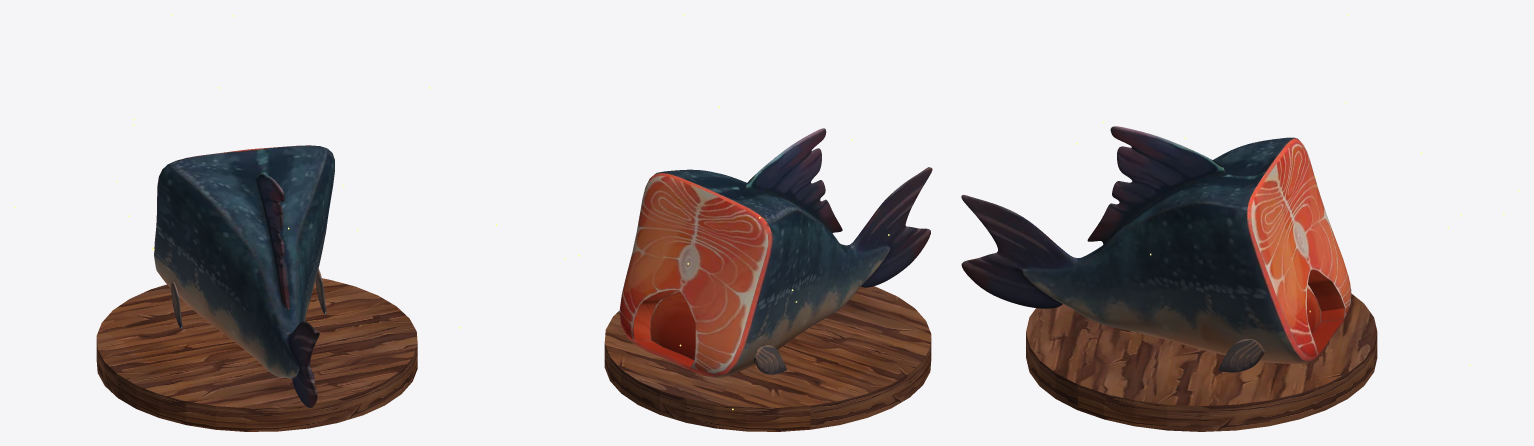
File: salmon.glb
3 renders of one model, left to right at view 1: azimuth 30°, elevation 25°; view 2: azimuth 150°, elevation 25°; view 3: azimuth 270°, elevation 25°, orthographic. The views are drawn at different scales.
Visible parts, largest first — view 1: Cube_018_Material_009_0, Cube_018_Material_007_0; view 2: Cube_018_Material_009_0, Cube_018_Material_007_0; view 3: Cube_018_Material_009_0, Cube_018_Material_007_0.
Part boxes in pixels (box(x1,y1,x2,y2)): Cube_018_Material_009_0: box(154, 145, 334, 407); Cube_018_Material_007_0: box(96, 278, 417, 431); Cube_018_Material_009_0: box(619, 128, 932, 378); Cube_018_Material_007_0: box(604, 286, 931, 431); Cube_018_Material_009_0: box(961, 126, 1351, 372); Cube_018_Material_007_0: box(1026, 293, 1377, 431).
Bounding box in the file's own units: 0.4329 × 0.3955 × 0.6.
Materials: 3 (2 with a texture image).
